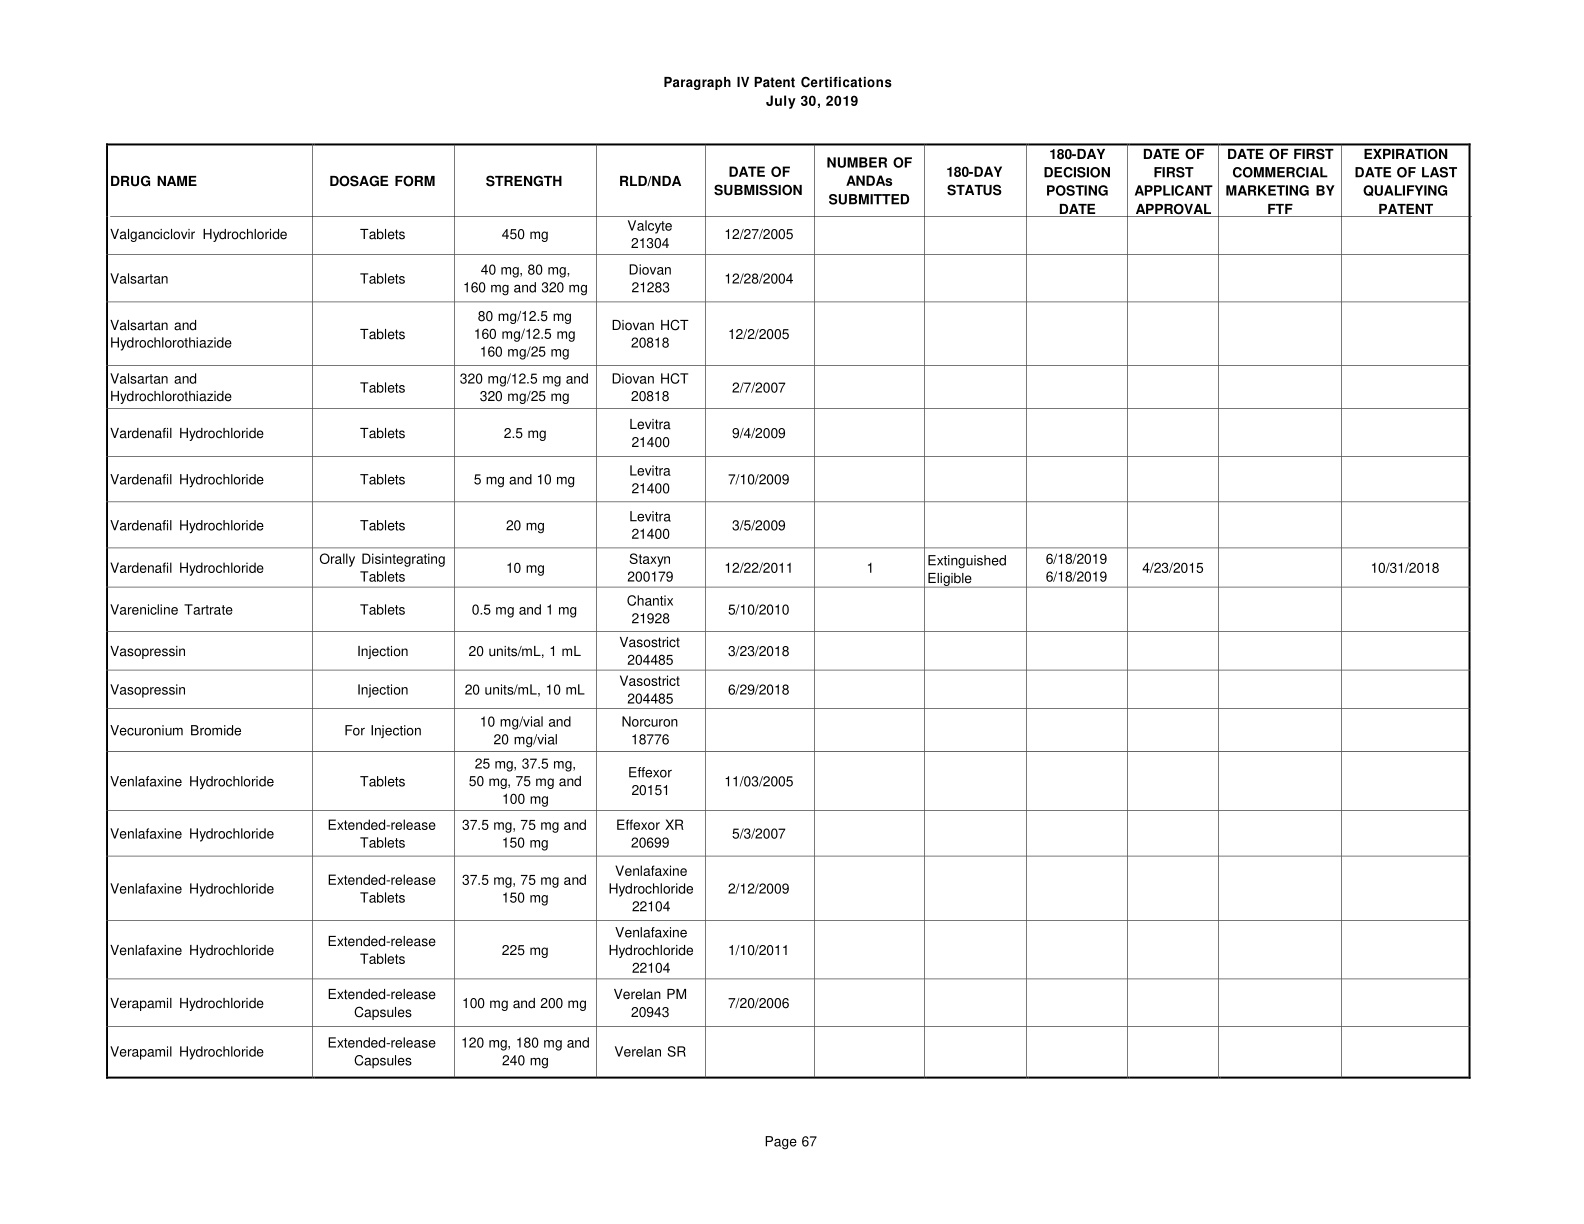full_lined: (105, 141, 1471, 1079)
